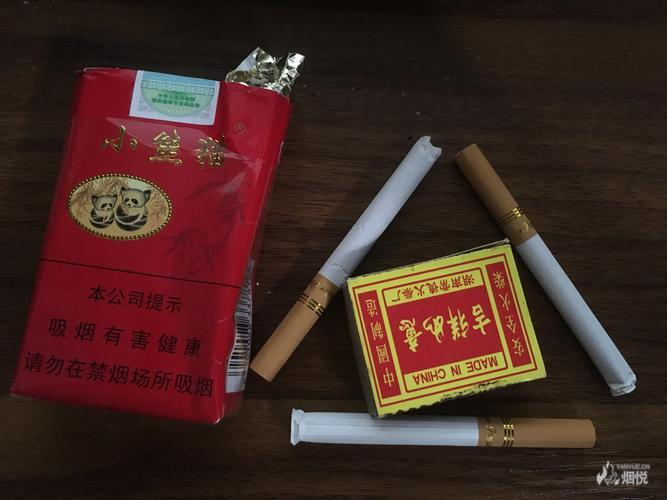smoke: (250, 136, 443, 384), (454, 143, 638, 397), (290, 408, 596, 449)
